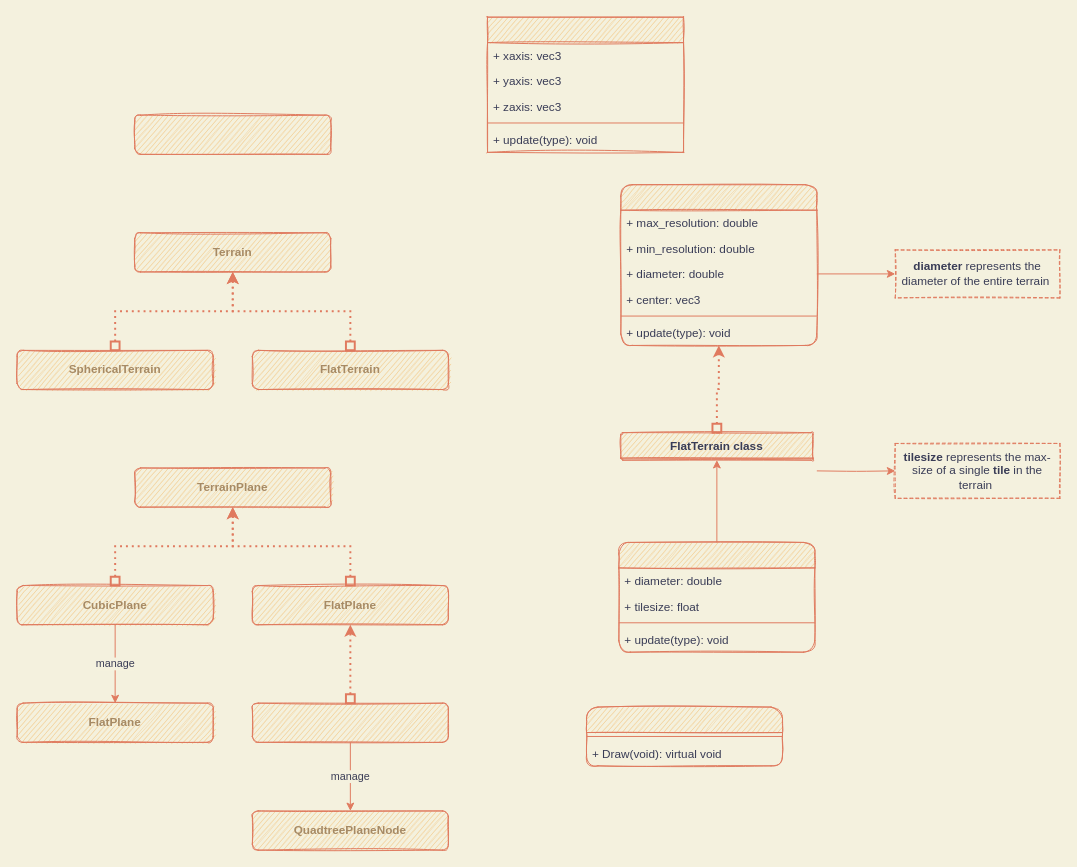
Some shapes in this 1077 by 867 pixel diagram are drawn without their labels. The shapes that lost their labels are listed below. From the top down, each one's box as (x1, y1, x2, y2) in pixels, then its label:
(487, 16, 684, 152): TerrainPlane class
(134, 114, 331, 154): SpaceObject
(620, 184, 817, 345): Terrain class
(618, 541, 815, 652): ContinuousFlatTerrain class
(251, 702, 448, 742): QuadtreePlane
(586, 706, 783, 766): Mesh class
